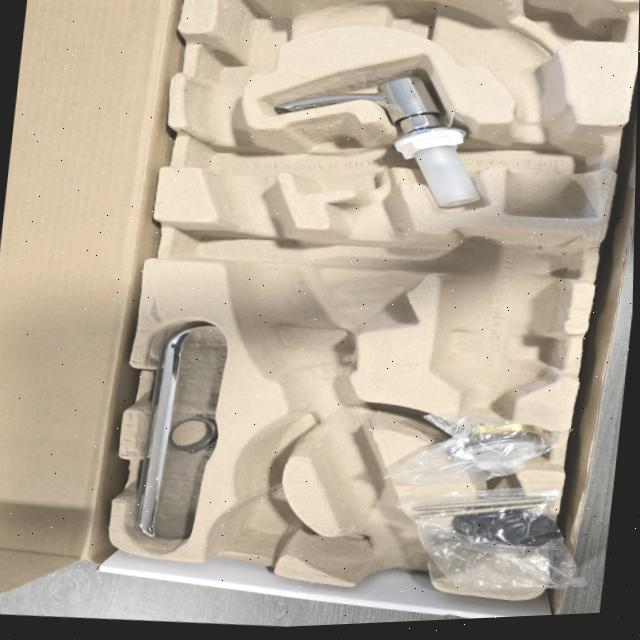1m: (187, 0, 596, 587)
2: (278, 76, 482, 208)
3m: (435, 227, 584, 418)
4: (137, 323, 228, 539)
5m: (216, 492, 291, 549)
6: (377, 414, 554, 485)
7: (397, 483, 584, 594)
